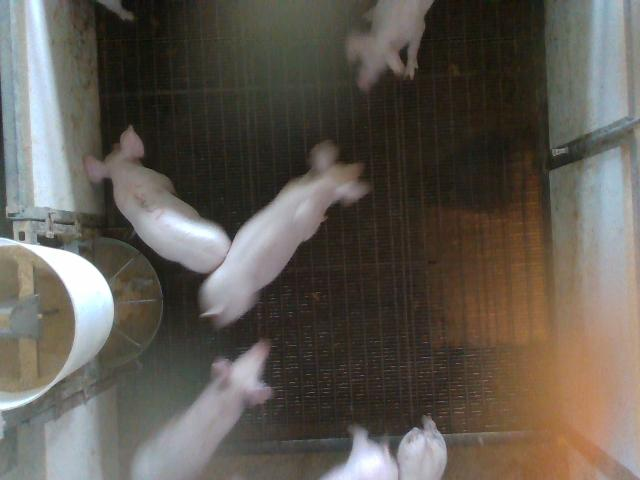pig-3: (84, 125, 231, 273)
